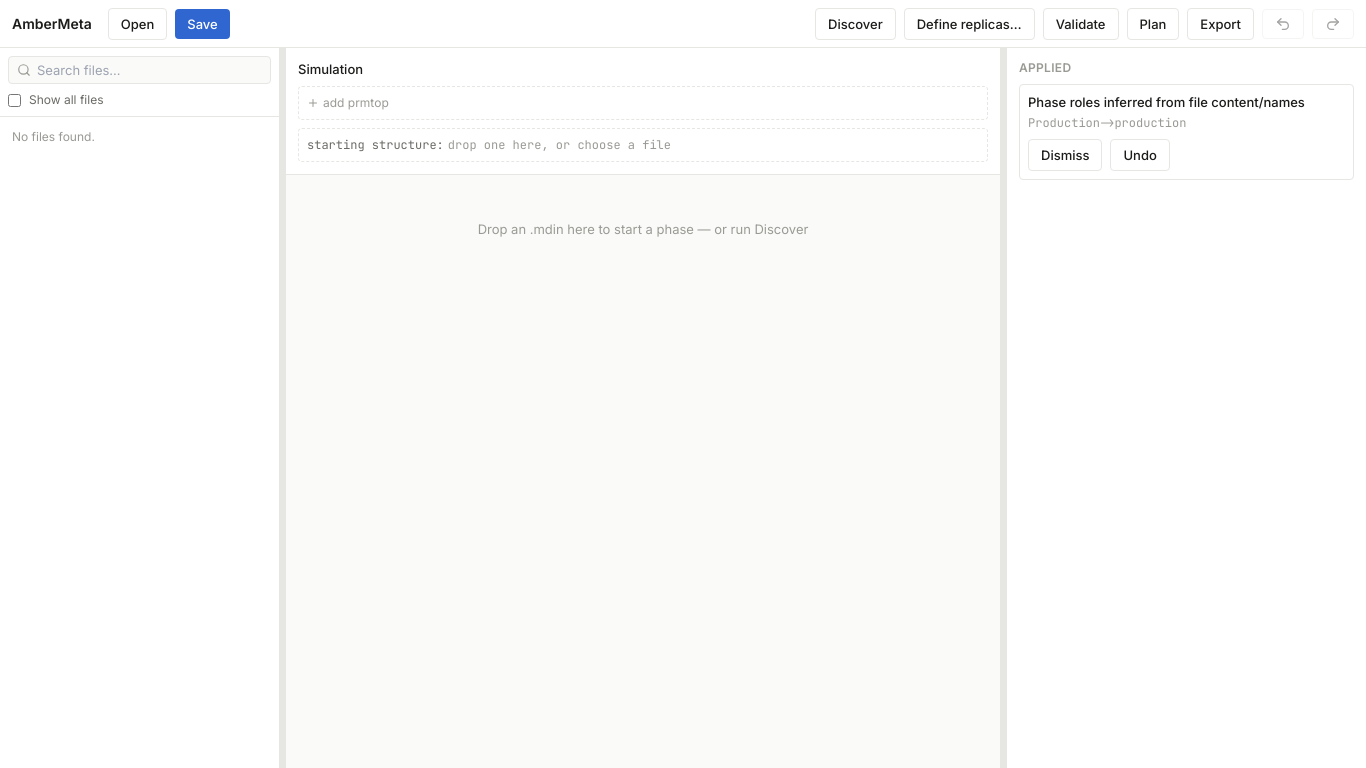
Test: top-bar workflows › Discover posts /api/document/discover, replaces the document, and feeds the tray
The image size is (1366, 768).
Click the button "Discover" at (855, 24), box [815, 8, 896, 40]
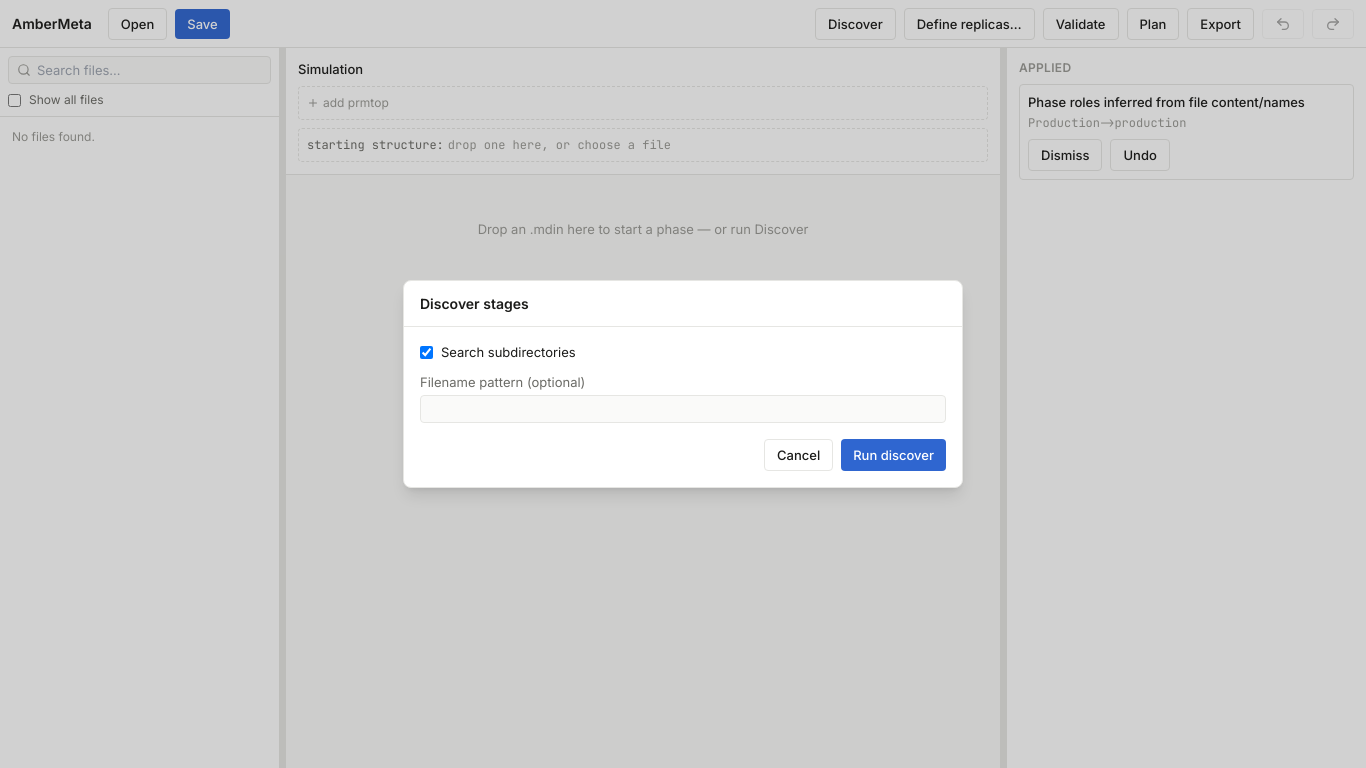
Click the button "Run discover" at (894, 455), box [841, 439, 946, 471]
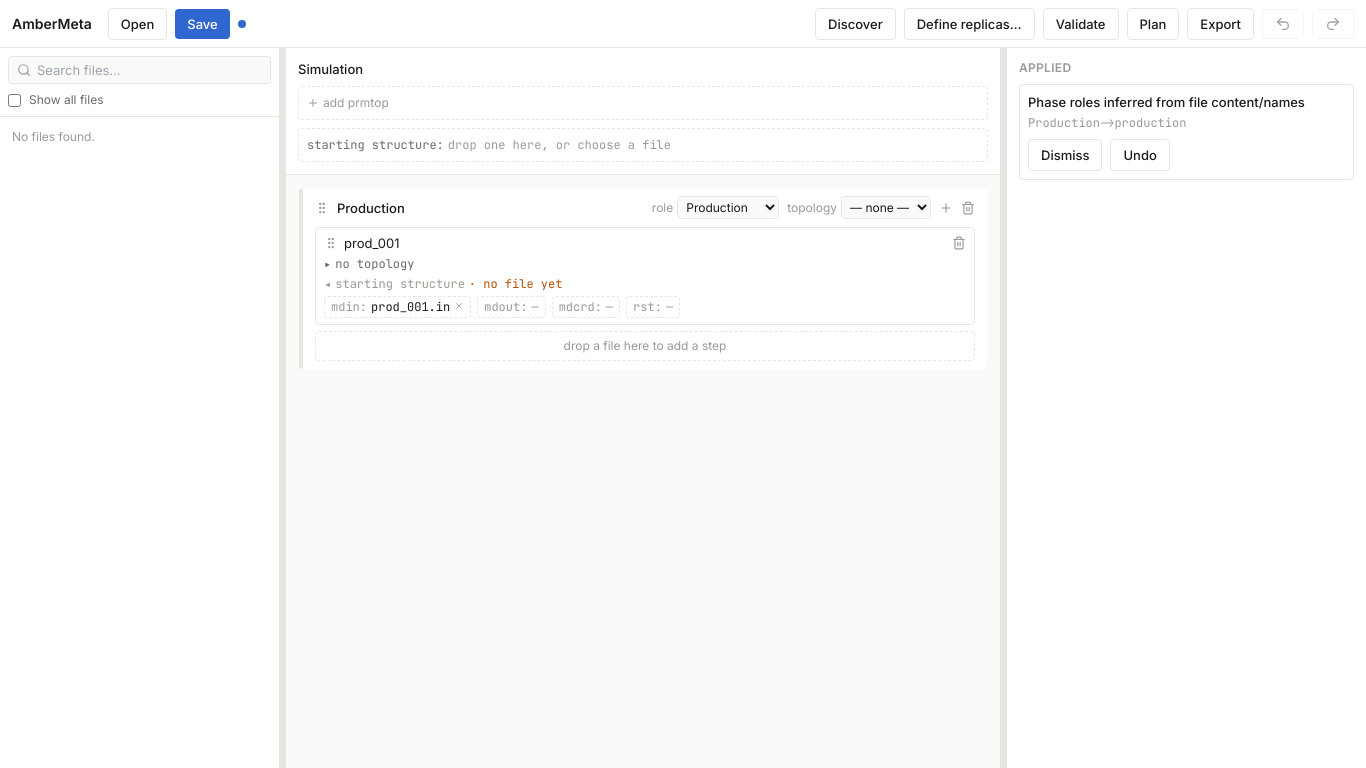
Expected: the text "Production->production" is shown, [1028, 115, 1186, 131]
Expected: the button "prod_001" is shown, [344, 234, 399, 252]
